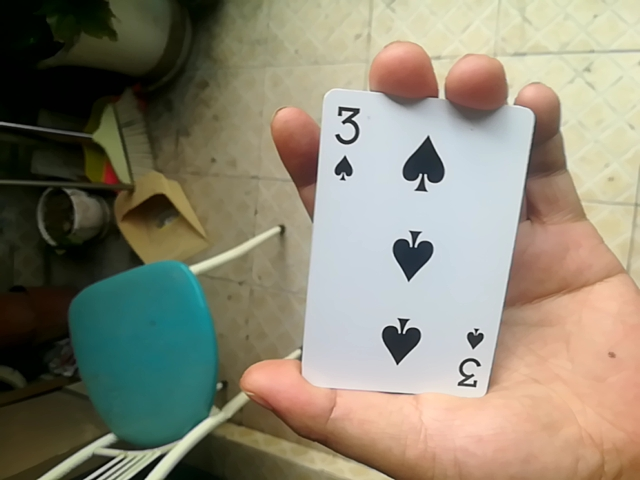ht 3: (301, 93, 535, 394)
